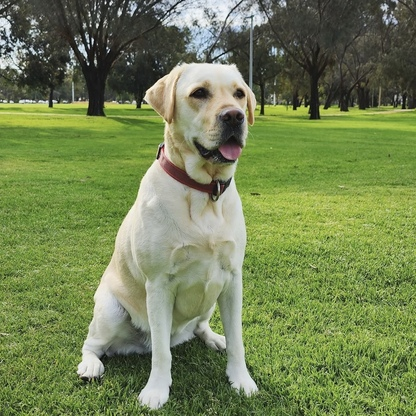labrado: (72, 54, 266, 412)
